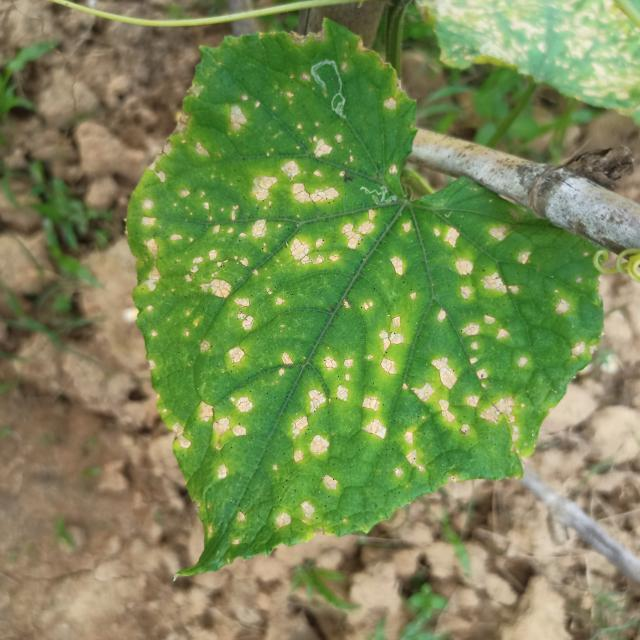disease_cucumber: (142, 74, 540, 537)
